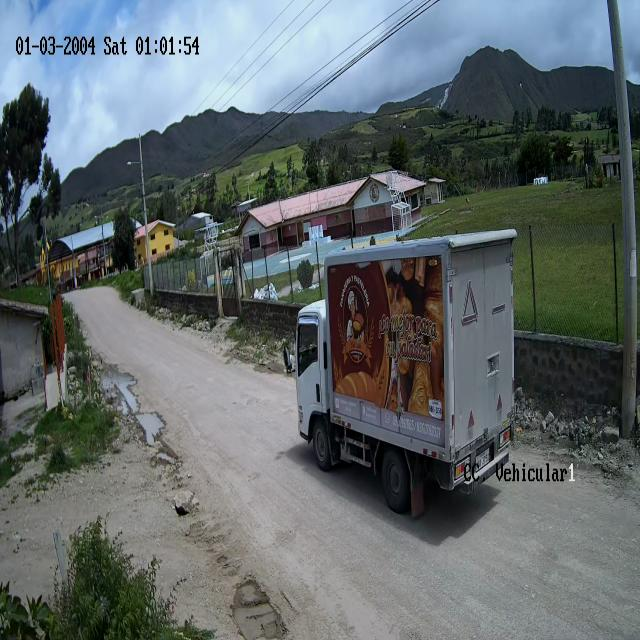TRUCK: (298, 230, 518, 519)
